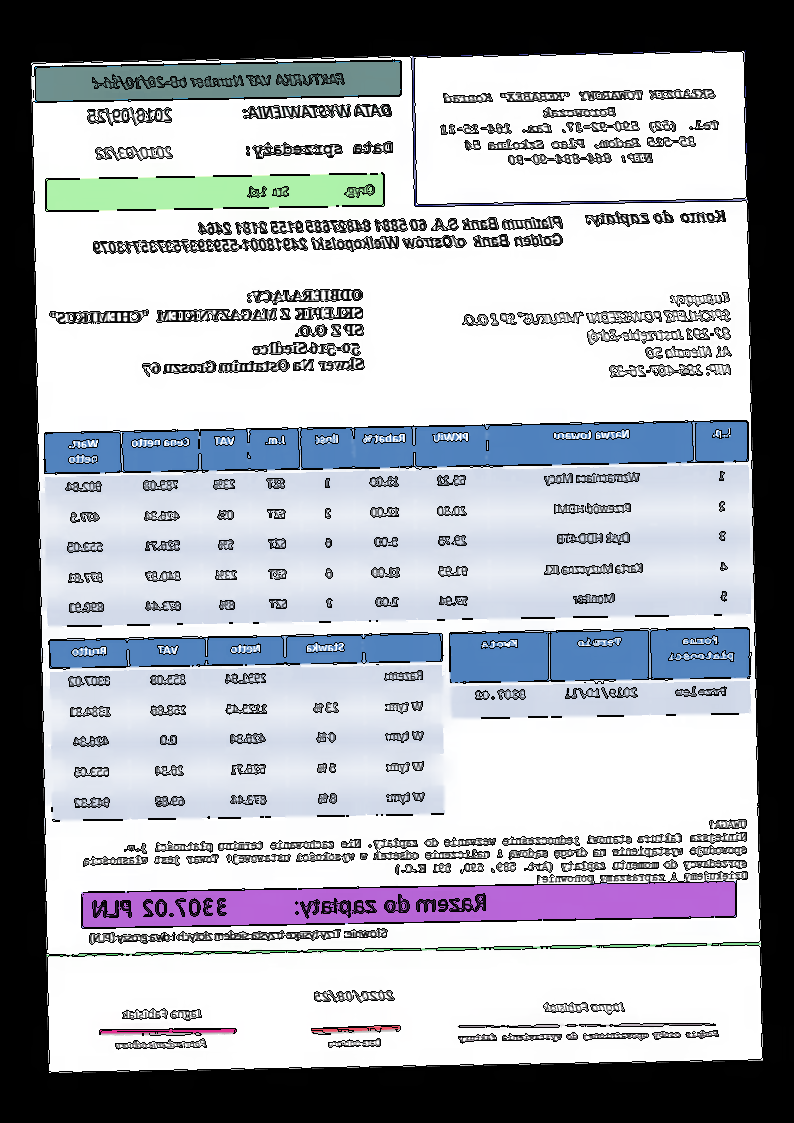Table: (43, 418, 753, 627), (48, 632, 446, 823), (448, 625, 753, 721)
TextBox: (82, 818, 750, 895), (49, 287, 366, 378), (461, 288, 735, 382), (437, 86, 720, 169), (91, 212, 566, 257), (91, 889, 490, 925), (87, 925, 390, 947), (88, 70, 348, 93), (457, 1026, 721, 1045), (243, 137, 395, 161), (584, 207, 730, 230), (240, 101, 395, 122), (245, 182, 378, 202), (86, 104, 175, 126), (114, 1036, 209, 1052), (122, 1005, 204, 1022), (94, 145, 175, 161), (542, 1000, 627, 1015), (312, 989, 396, 1004), (326, 1036, 384, 1050)
